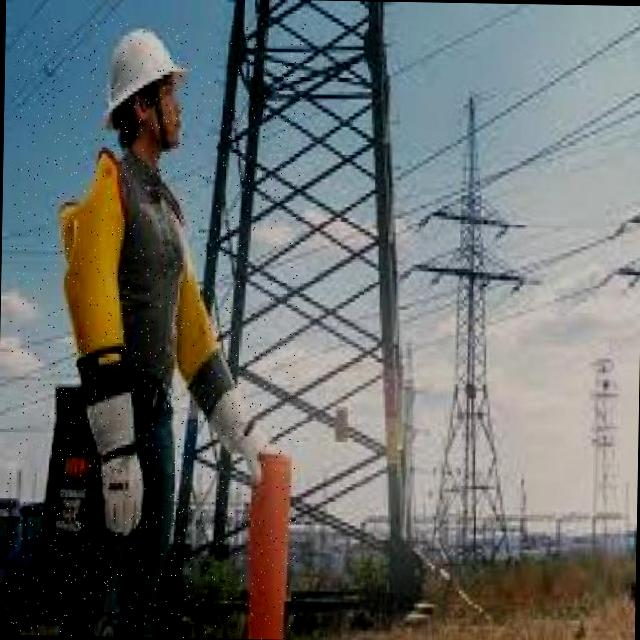gloves: (80, 345, 158, 538), (190, 345, 282, 492)
helmet: (97, 28, 183, 138)
